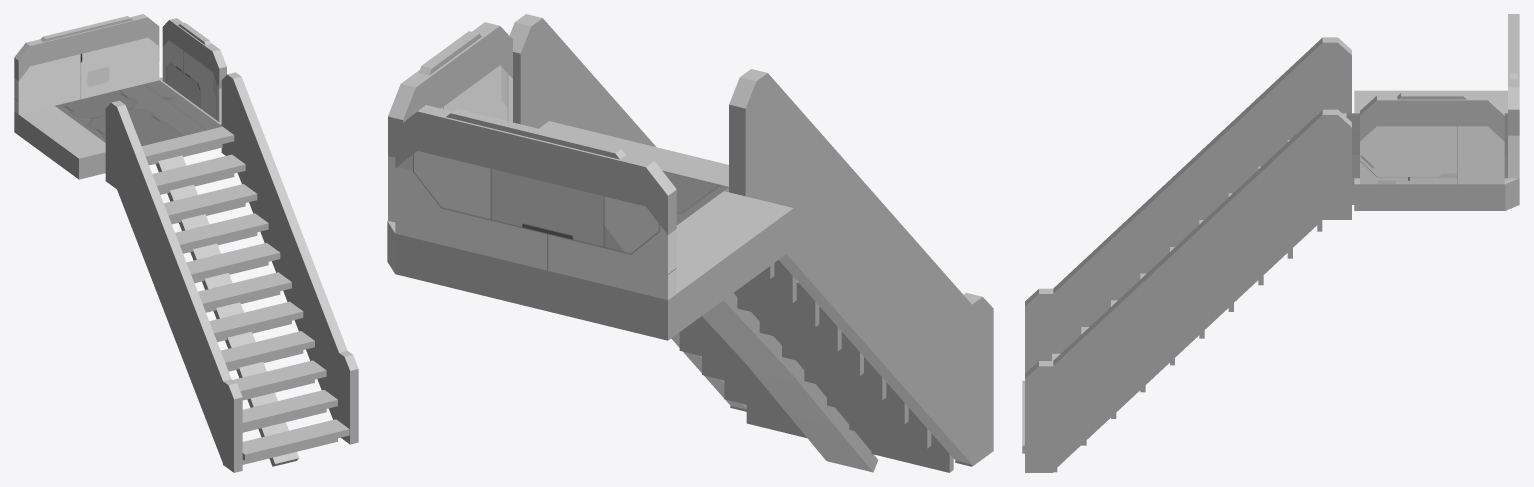
The model's file is SM_Stairs_3.fbx.
3 views of the same model, side by side, from view 1: azimuth 30°, elevation 25°; view 2: azimuth 150°, elevation 25°; view 3: azimuth 270°, elevation 25° (orthographic). The views are drawn at different scales.
Visible parts, largest first — view 1: SM_Stairs_3; view 2: SM_Stairs_3; view 3: SM_Stairs_3.
Boxes of the visible parts, x1=… form: SM_Stairs_3: x1=14, y1=14, x2=358, y2=472; SM_Stairs_3: x1=387, y1=14, x2=993, y2=472; SM_Stairs_3: x1=1022, y1=14, x2=1519, y2=472.
Size of the model in its own units: 209 by 410 by 468.
